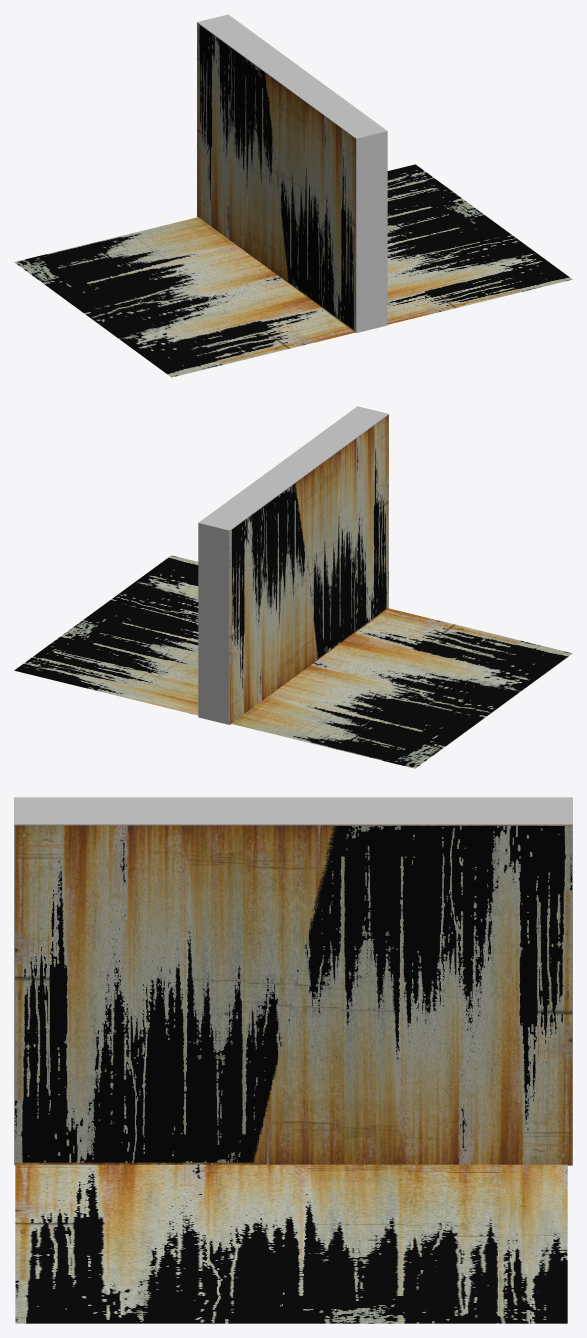
The model's file is TiledBrick12.FBX.
3 views of the same model, one above another, from view 1: azimuth 30°, elevation 25°; view 2: azimuth 150°, elevation 25°; view 3: azimuth 270°, elevation 25° (orthographic). The views are drawn at different scales.
Parts seen in each view (by area): view 1: TiledBrick12; view 2: TiledBrick12; view 3: TiledBrick12.
Part boxes in pixels (x1,y1,x2,y2): TiledBrick12: (14,14,572,377); TiledBrick12: (14,406,572,768); TiledBrick12: (14,797,572,1323).
Size of the model in its own units: 262 by 121 by 180.
